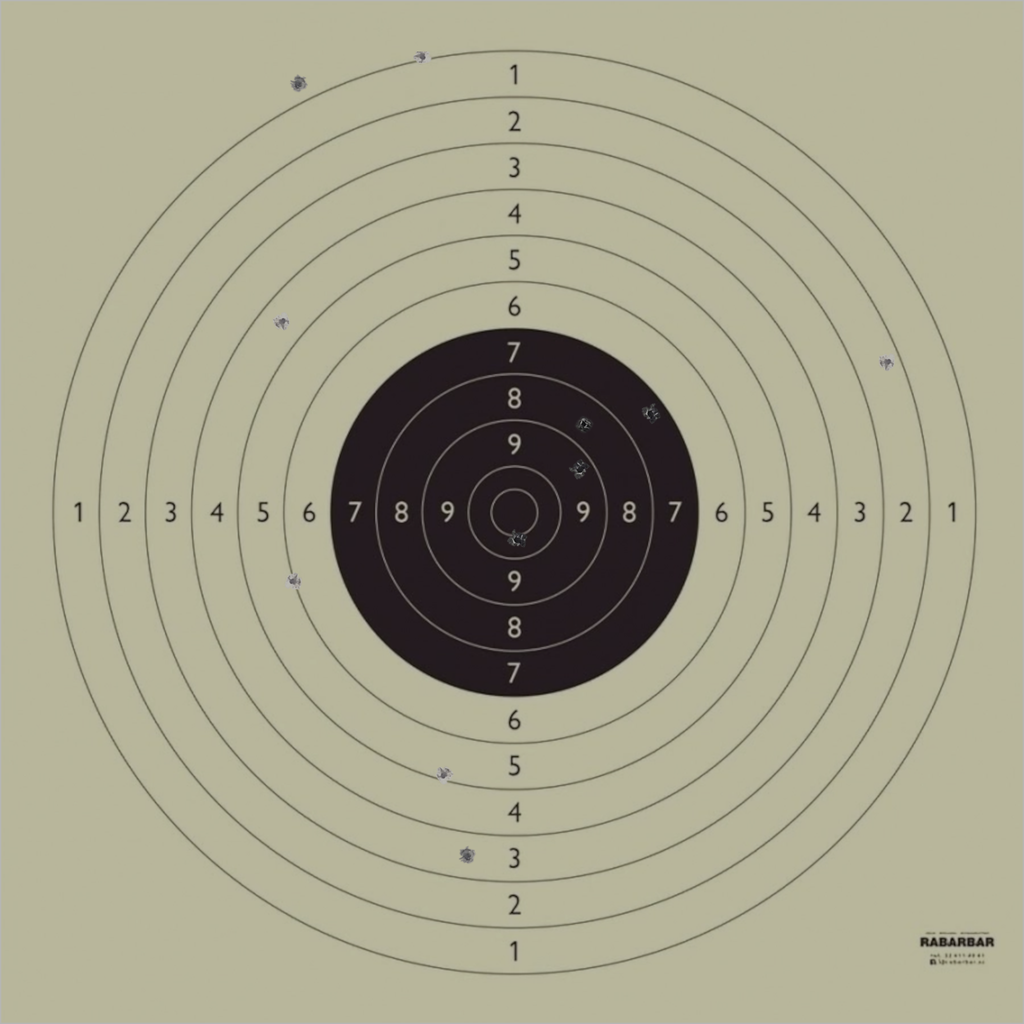0 punktow: (289, 75, 308, 93)
1 punkt: (413, 47, 431, 66)
10 punktow: (509, 531, 527, 549)
2 punkty: (878, 353, 897, 371)
3 punkty: (458, 847, 477, 865)
4 punkty: (273, 312, 292, 331)
5 punktow: (434, 766, 453, 784)
6 punktow: (284, 572, 302, 590)
7 punktow: (642, 405, 660, 423)
8 punktow: (575, 415, 593, 433)
9 punktow: (571, 460, 590, 478)
